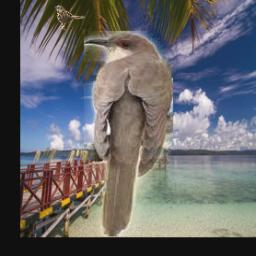Cuckoo: (85, 31, 174, 236)
Sparrow: (55, 6, 86, 31)
